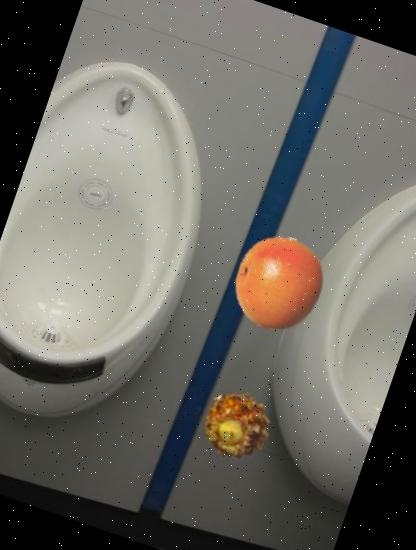Grapefruit: (219, 223, 340, 344)
Pineapple: (193, 379, 282, 468)
